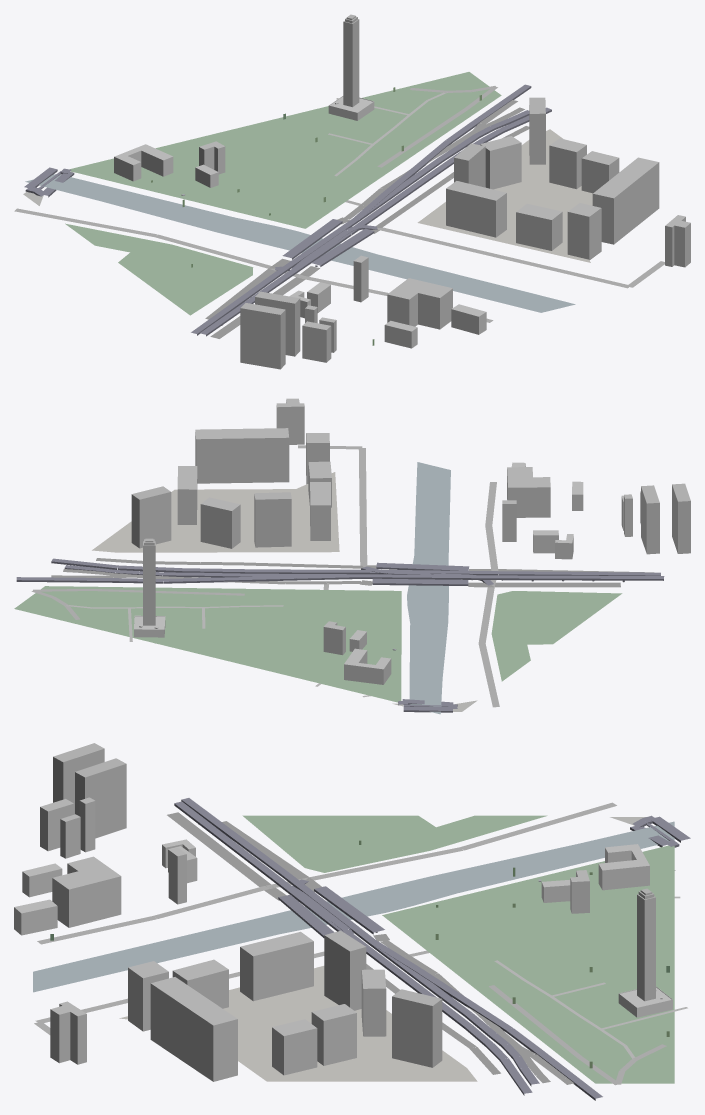
3 renders of one model, top to bottom at view 1: azimuth 30°, elevation 25°; view 2: azimuth 150°, elevation 25°; view 3: azimuth 270°, elevation 25°, orthographic. The views are drawn at different scales.
Bounding box in the file's own units: 559 × 105 × 527.
